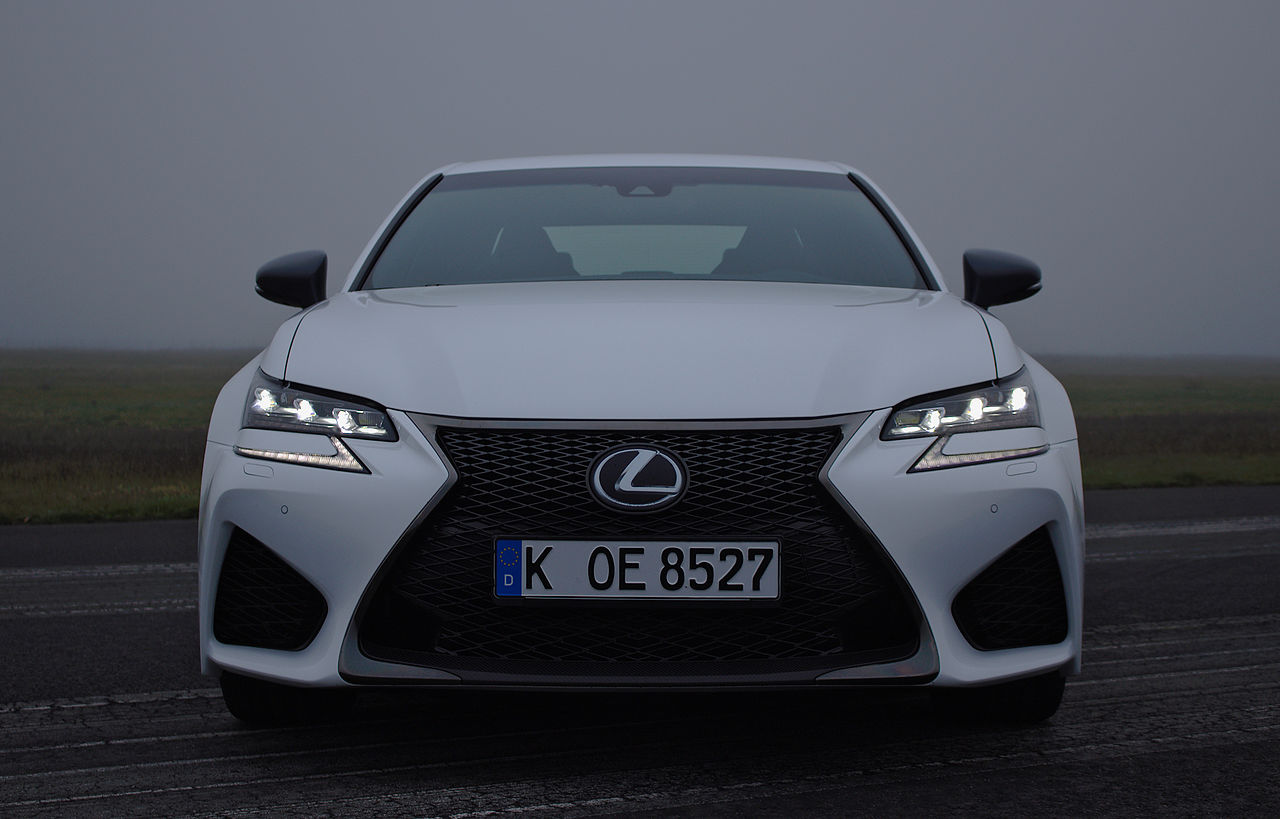plate: (494, 536, 780, 601)
